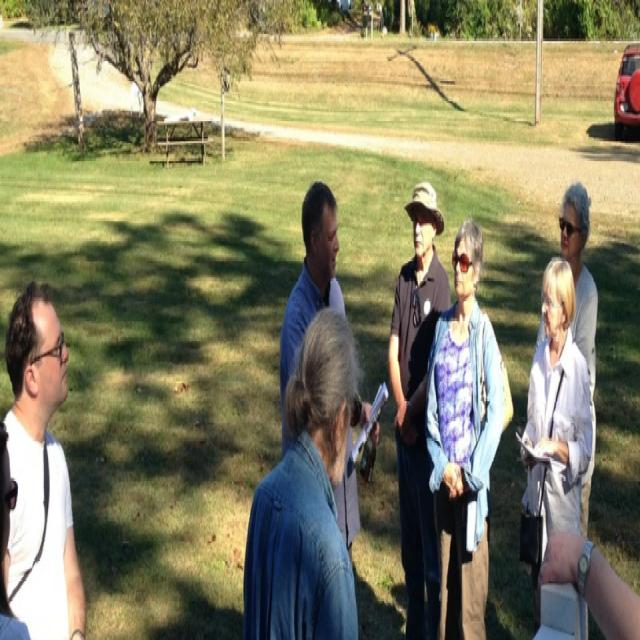body: (241, 304, 361, 640), (421, 212, 515, 638), (278, 178, 380, 551), (385, 176, 455, 638), (513, 251, 596, 638), (2, 278, 87, 640), (535, 182, 599, 543), (536, 524, 640, 638), (0, 418, 31, 638)
